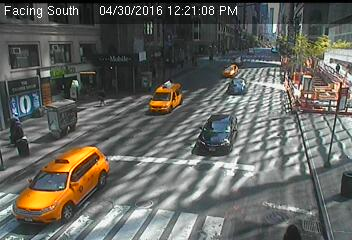neg: (53, 162, 72, 188), (182, 84, 198, 105), (126, 136, 141, 155), (207, 42, 221, 61), (254, 39, 268, 57), (201, 120, 214, 138), (229, 80, 240, 95), (175, 166, 183, 176)
pos: (1, 107, 27, 143), (90, 85, 108, 108), (286, 222, 297, 237), (333, 59, 344, 74)
